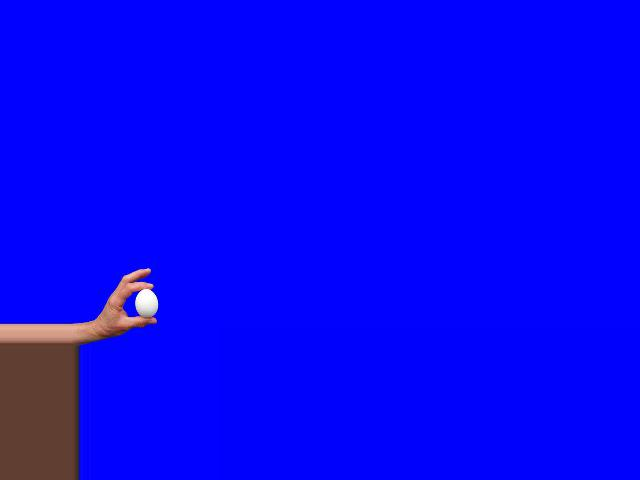egg: (135, 288, 158, 318)
